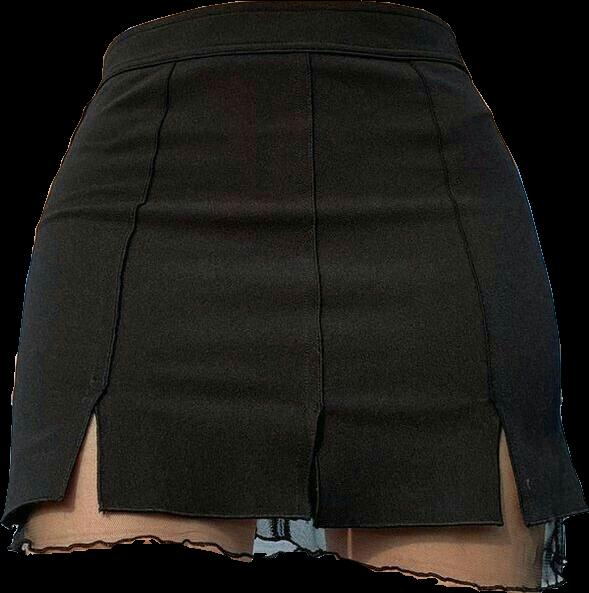Hemline: (0, 405, 588, 530)
Waistline: (103, 0, 453, 55), (97, 42, 468, 83)
